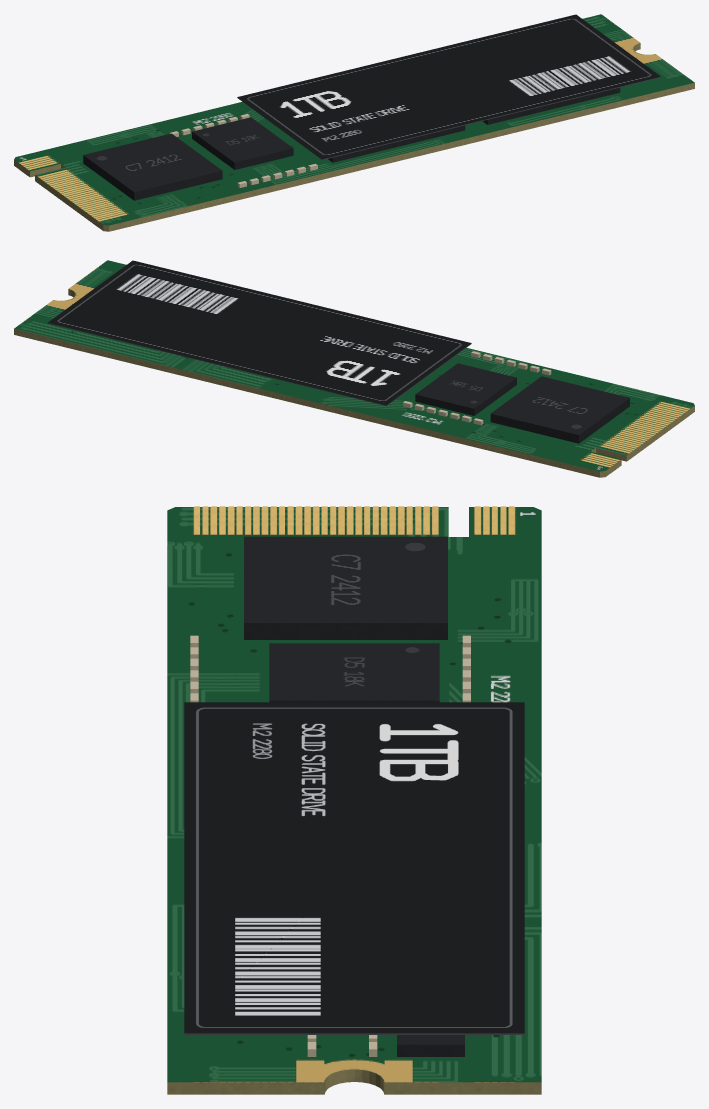
The model's file is m-2-ssd.glb.
The picture shows the model from 3 angles, top to bottom: view 1: azimuth 30°, elevation 25°; view 2: azimuth 150°, elevation 25°; view 3: azimuth 270°, elevation 25°; orthographic projection. The views are drawn at different scales.
Visible parts, largest first — view 1: Label, Printed circuit board, Controller, cache and flash packages, Gold-finger contacts, Passive components; view 2: Label, Printed circuit board, Controller, cache and flash packages, Gold-finger contacts, Passive components; view 3: Label, Printed circuit board, Controller, cache and flash packages, Gold-finger contacts, Passive components.
Part boxes in pixels (<box>): Label: <box>237,14,661,159</box>; Printed circuit board: <box>14,14,694,231</box>; Controller, cache and flash packages: <box>83,87,620,200</box>; Gold-finger contacts: <box>19,156,126,226</box>; Passive components: <box>169,114,317,187</box>; Label: <box>47,260,471,405</box>; Printed circuit board: <box>14,260,694,477</box>; Controller, cache and flash packages: <box>415,363,629,443</box>; Gold-finger contacts: <box>582,402,689,472</box>; Passive components: <box>403,351,551,425</box>; Label: <box>184,702,524,1034</box>; Printed circuit board: <box>167,507,541,1094</box>; Controller, cache and flash packages: <box>244,536,464,1056</box>; Gold-finger contacts: <box>194,506,514,534</box>; Passive components: <box>190,635,470,1056</box>.
Size of the model in its own units: 0.08 by 0.00213 by 0.022.
13 materials, 13 textured.
